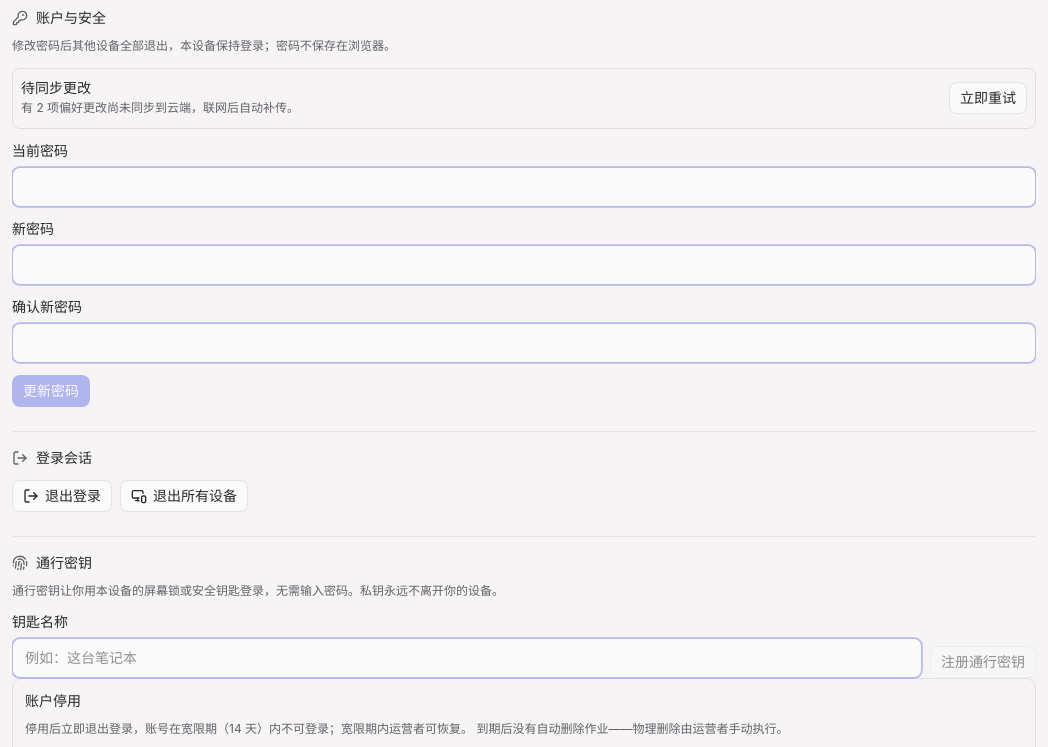
Scenario: R25 设置·账户页待同步轻提示 › 有未落库变更时显示「待同步更改」，重试成功后消失
Expected: the text "待同步更改" is shown, [21,78,91,96]
Expected: the text "有 2 项偏好更改尚未同步到云端，联网后自动补传。" is shown, [21,98,299,118]
Step 1. Click the button "立即重试" → (988,98), box [949,82,1027,114]
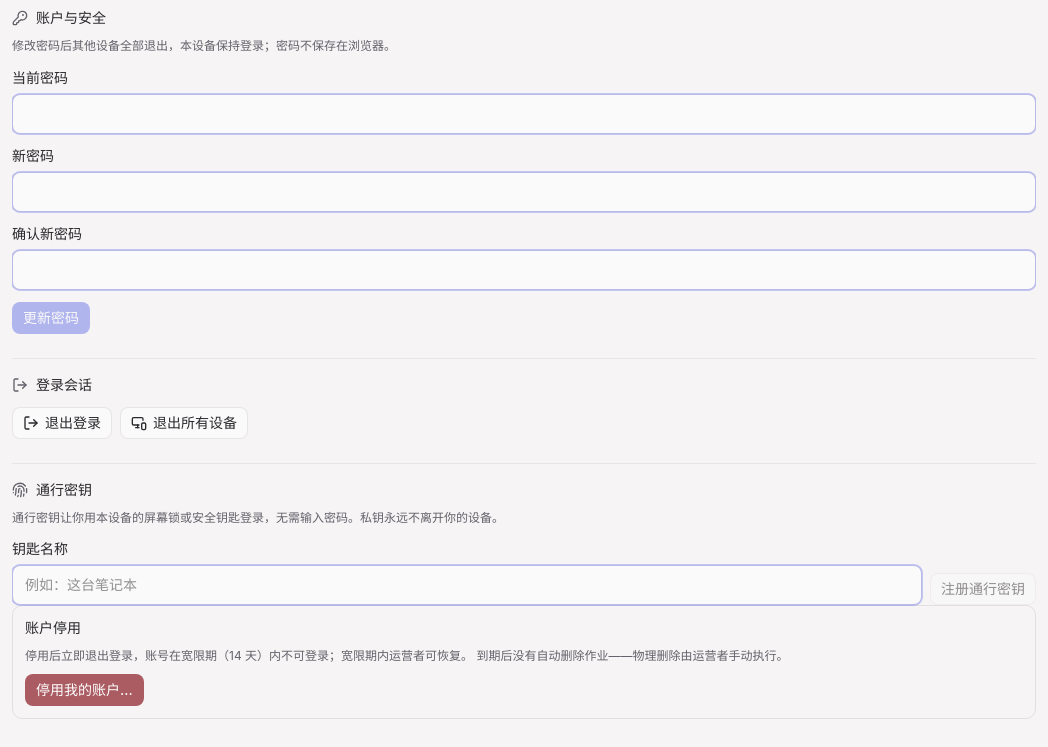
Expected: the text "待同步更改" is gone
